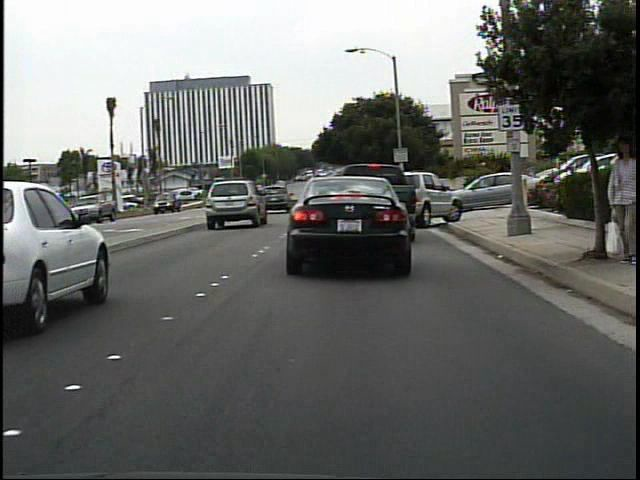person: (598, 134, 637, 268)
